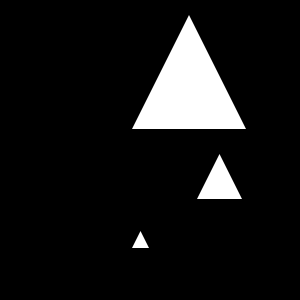triangle: (132, 15, 246, 129), (197, 154, 242, 199), (132, 231, 149, 248)
